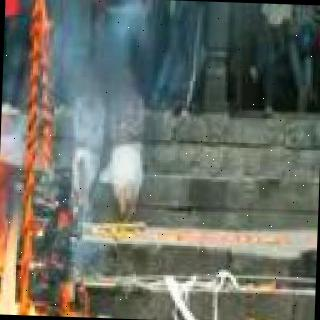fire: (0, 134, 24, 315)
